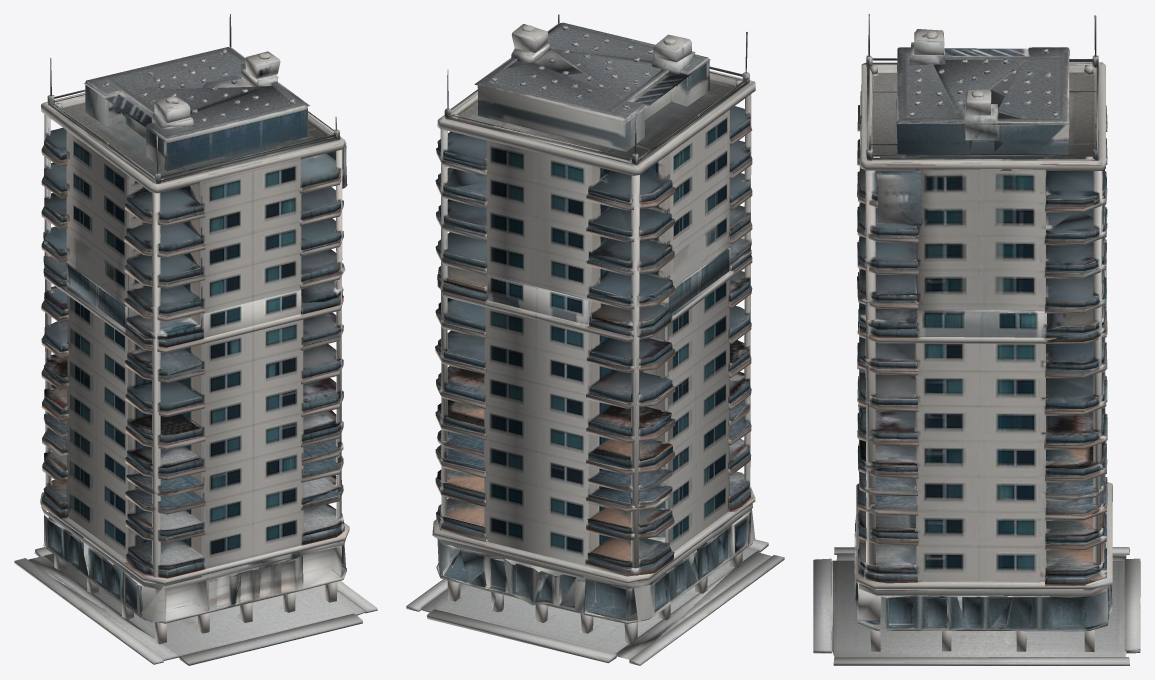
The model's file is meshy-city-apartment.glb.
The picture shows the model from 3 angles, left to right: view 1: azimuth 30°, elevation 25°; view 2: azimuth 150°, elevation 25°; view 3: azimuth 270°, elevation 25°; orthographic projection. The views are drawn at different scales.
Size of the model in its own units: 0.4541 by 1 by 0.54.
Materials: 1 (1 with a texture image).
